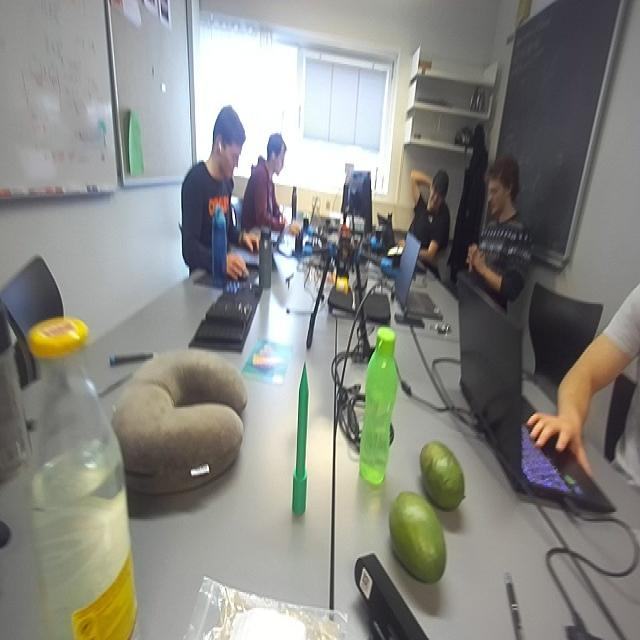probe: (292, 363, 309, 518)
